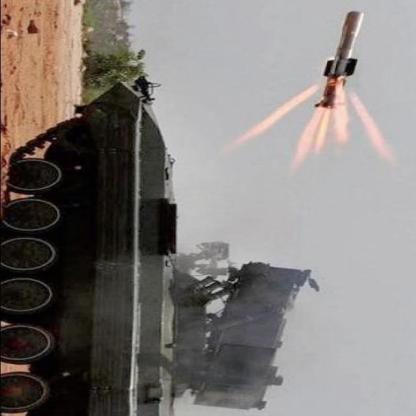MIL_TBM: (322, 7, 368, 111)
